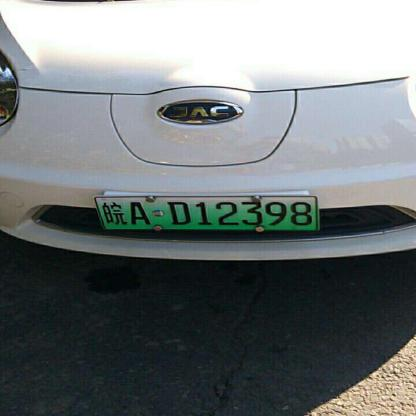lp: (94, 196, 317, 231)
